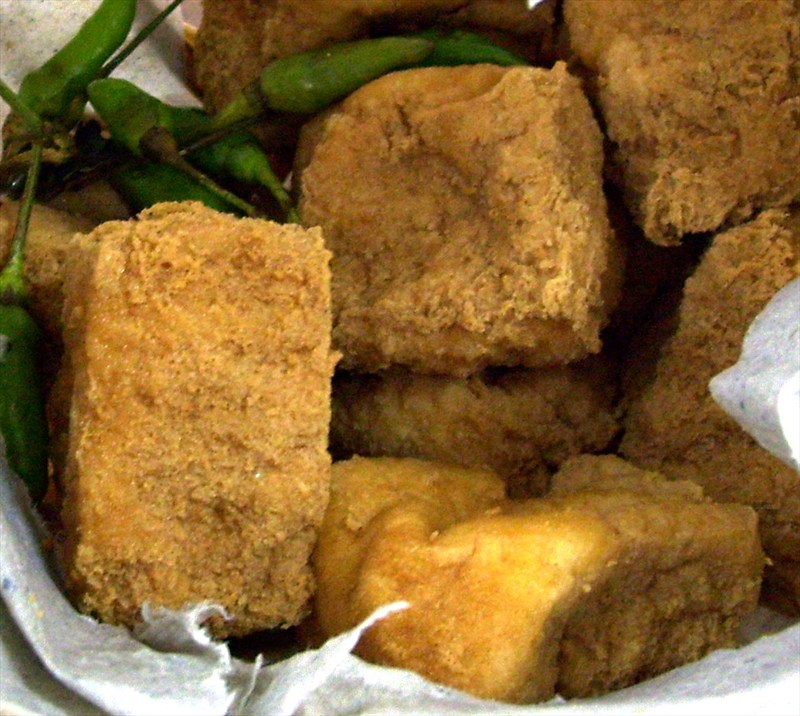Tahu Goreng: (82, 76, 623, 702)
